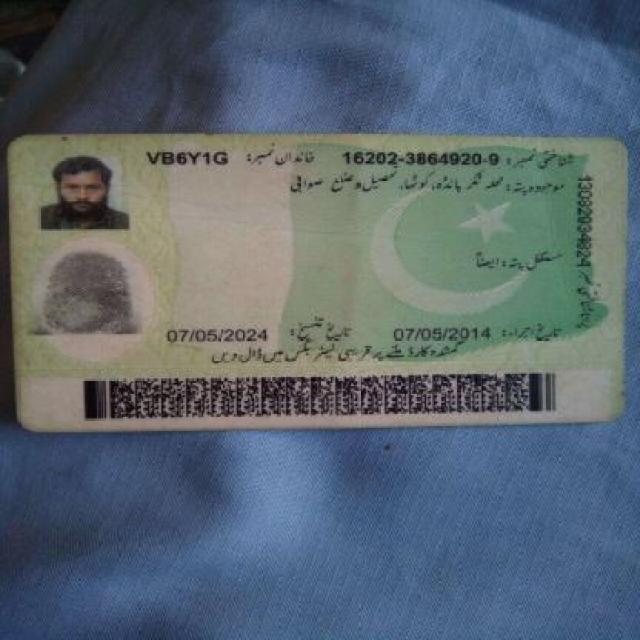Back: (2, 126, 629, 428)
